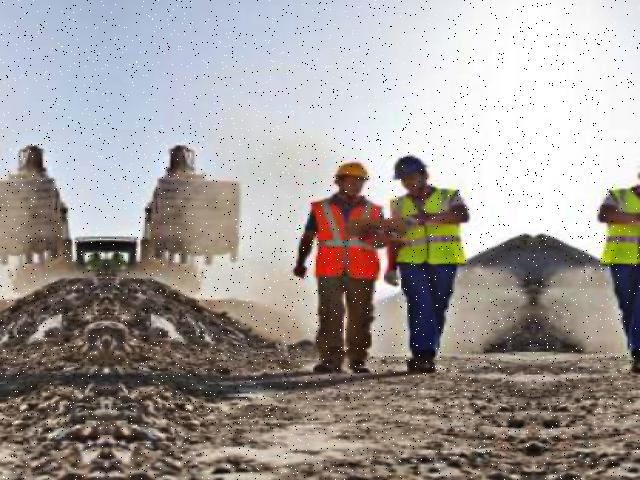Helmet: (392, 152, 432, 180), (332, 160, 373, 184)
